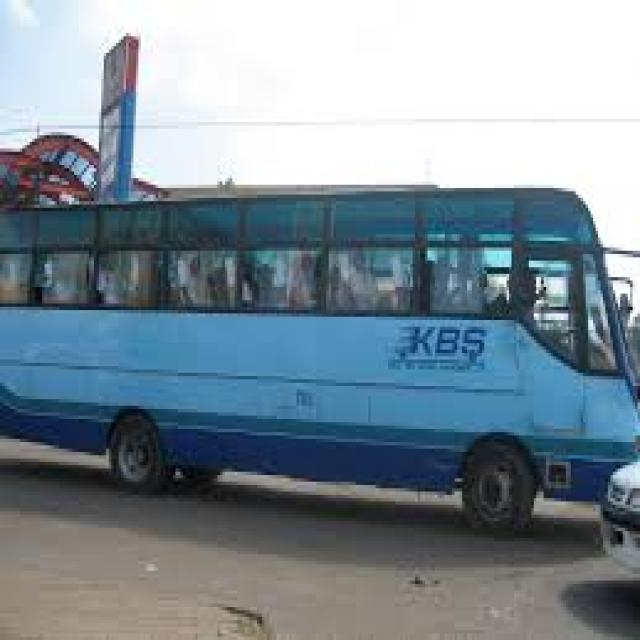bus: (0, 116, 640, 566)
